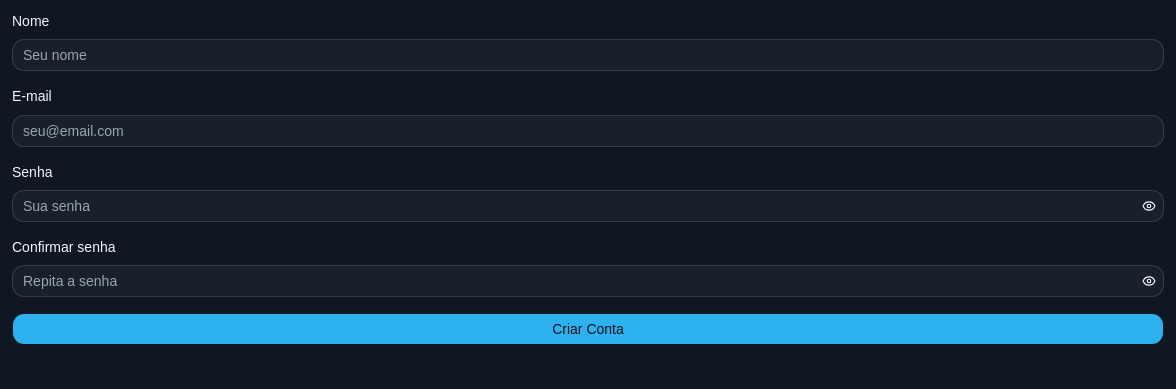
Scenario: SignUpForm › deve exibir erro no campo de confirmação quando as senhas divergem
Type "Maria Oliveira" into the field labelled "Nome" at (588, 55), box [12,39,1164,71]
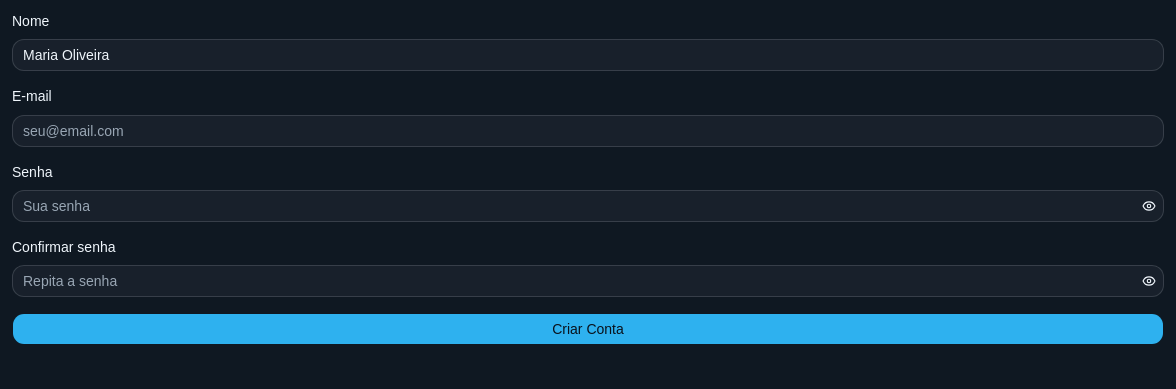
Type "maria.oliveira@example.com" into the field labelled "E-mail" at (588, 130), box [12,114,1164,146]
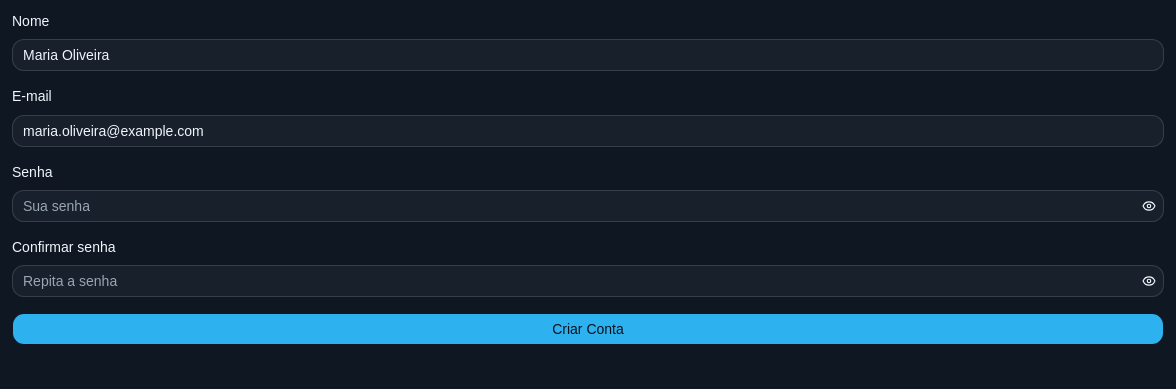
Type "Senha@123" into the password field labelled "Senha" at (574, 206), box [13,190,1135,222]
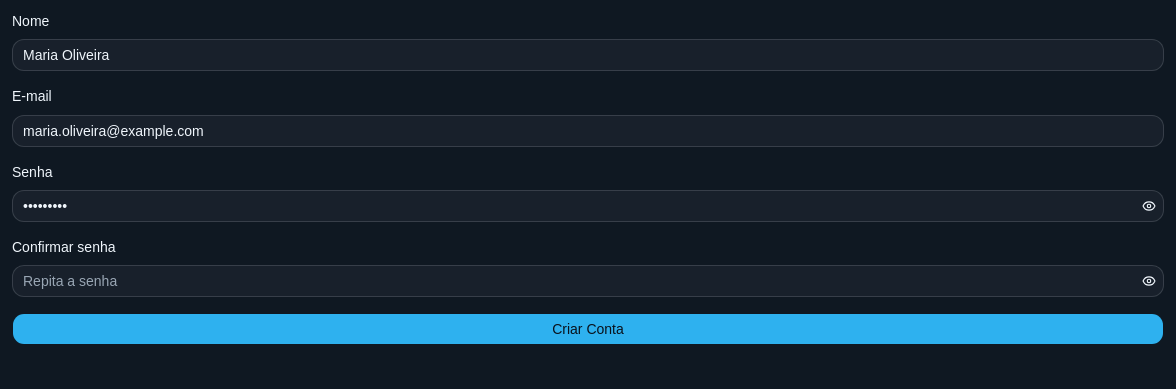
Type "Outra@123" into the password field labelled "Confirmar senha" at (574, 281), box [13,265,1135,297]
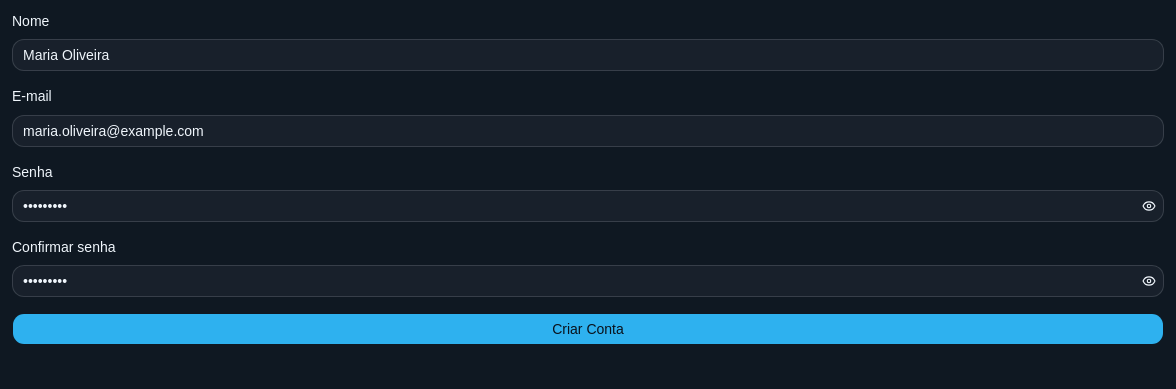
Click the button "Criar Conta" at (588, 329), box [12,313,1164,345]
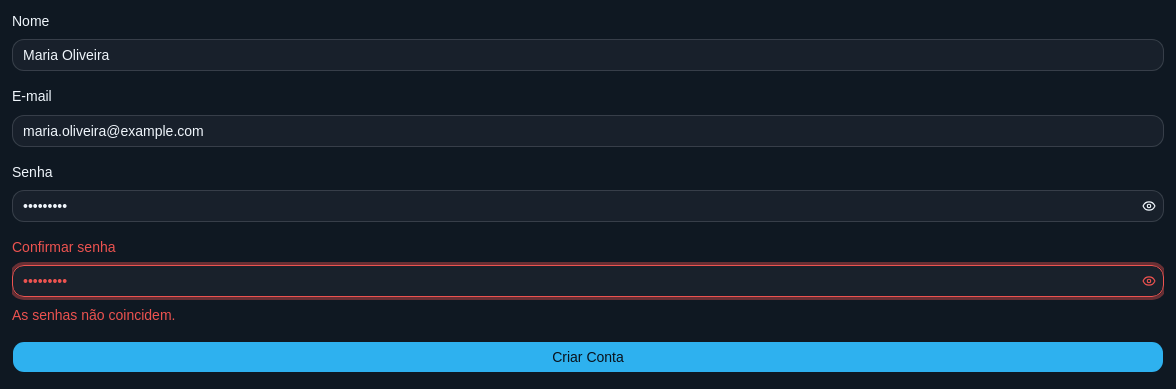
Expected: the text "As senhas não coincidem." is shown, [12,307,175,323]
